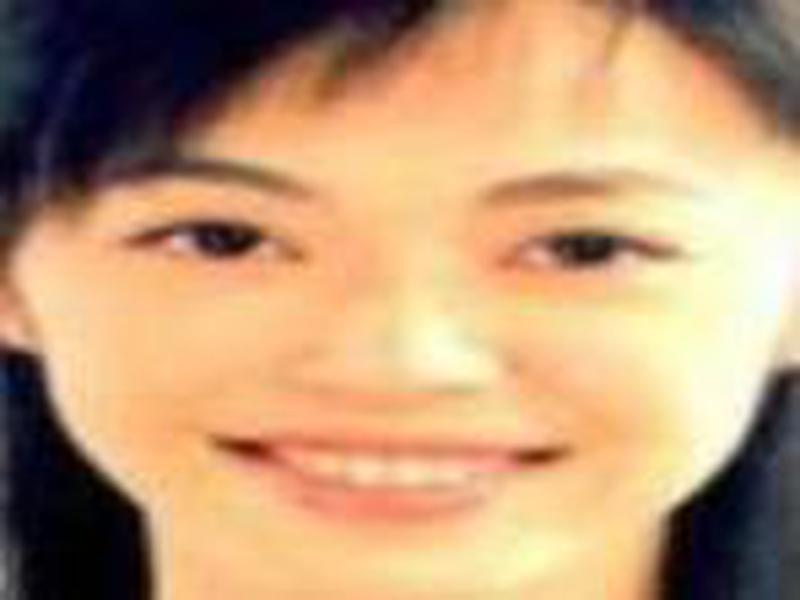without_mask: (27, 27, 780, 585)
